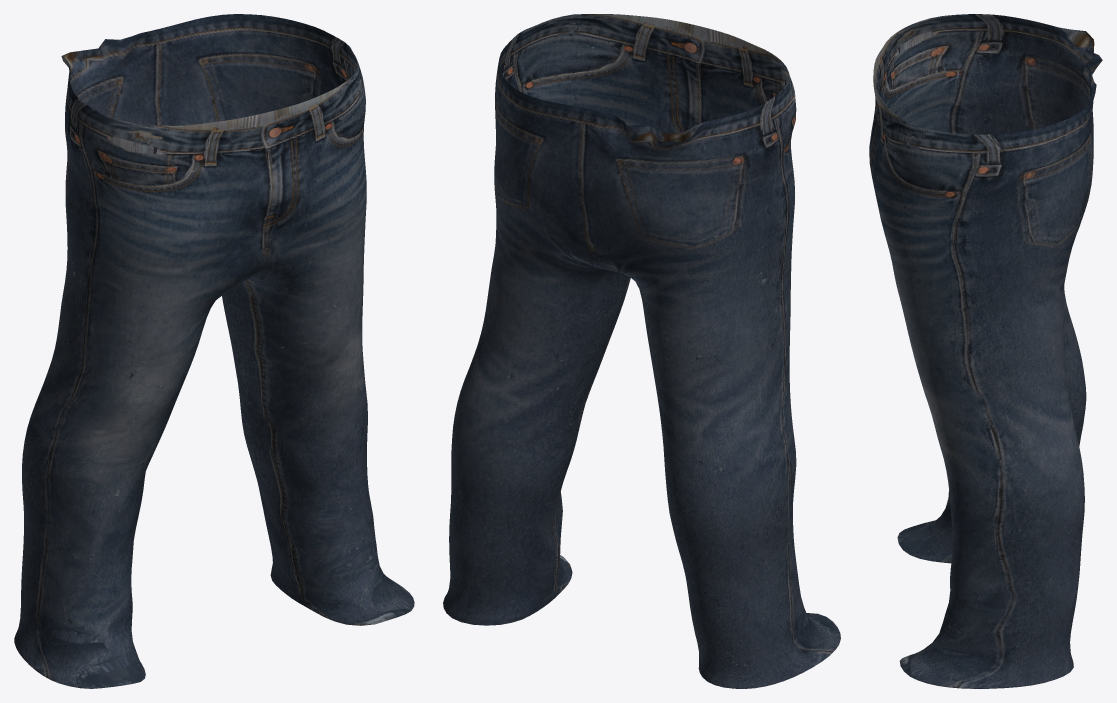
The model's file is jeans.glb.
The picture shows the model from 3 angles, left to right: view 1: azimuth 30°, elevation 25°; view 2: azimuth 150°, elevation 25°; view 3: azimuth 270°, elevation 25°; orthographic projection. The views are drawn at different scales.
Parts seen in each view (by area): view 1: Jeans; view 2: Jeans; view 3: Jeans.
Boxes of the visible parts, box(x1,y1,x2,y2) form: Jeans: box(14, 14, 414, 688); Jeans: box(443, 14, 840, 688); Jeans: box(869, 14, 1102, 688).
Bounding box in the file's own units: 0.6333 × 0.9343 × 0.3723.
1 material, 1 textured.
